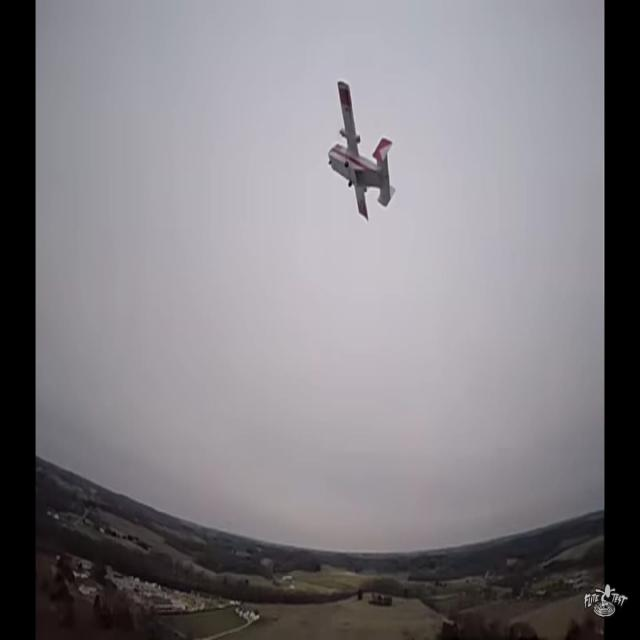iha: (359, 78, 364, 224)
